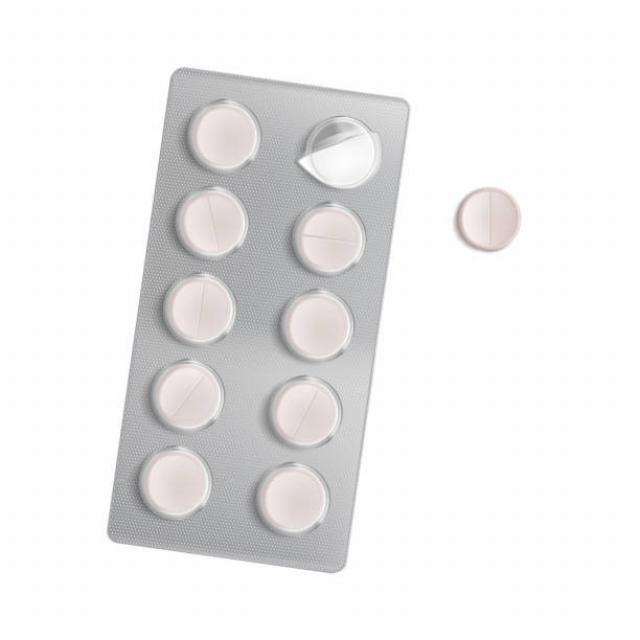Empty: (295, 98, 383, 194)
Pill: (180, 81, 274, 179), (244, 455, 344, 542), (259, 368, 349, 458), (284, 196, 376, 284), (168, 179, 258, 268), (159, 265, 246, 348), (282, 285, 362, 375), (135, 438, 221, 519), (141, 348, 225, 428)
